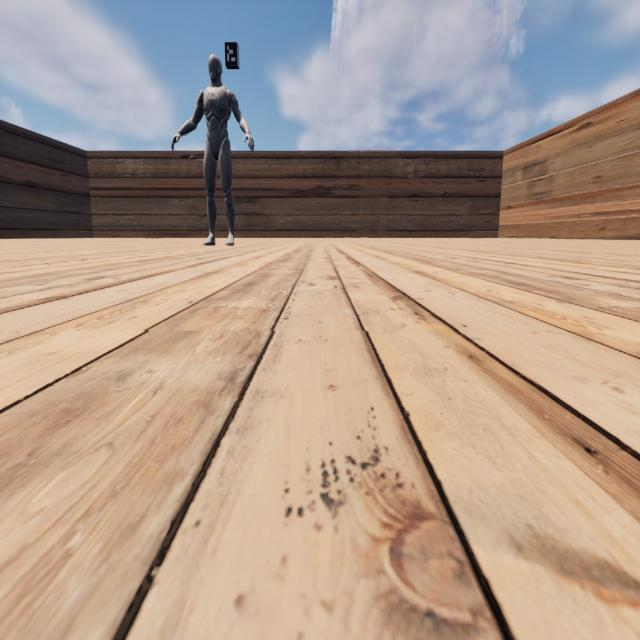aruco: (225, 42, 237, 66)
hip: (204, 137, 230, 148)
